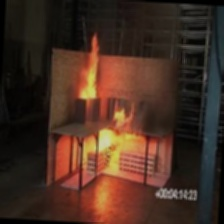fire: (78, 108, 142, 174), (67, 28, 113, 111)
